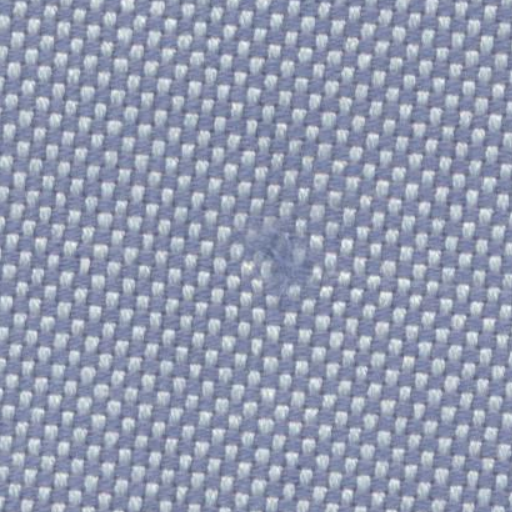MianQiu: (200, 202, 349, 327)
